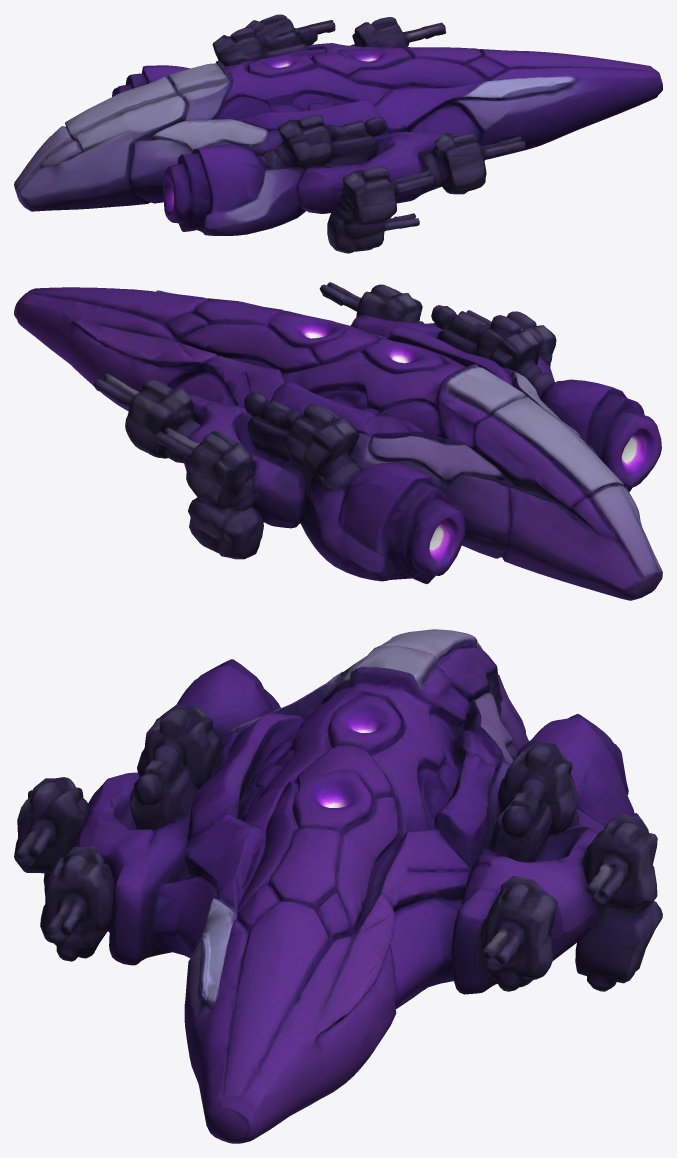
File: nova_rex.glb
The picture shows the model from 3 angles, top to bottom: view 1: azimuth 30°, elevation 25°; view 2: azimuth 150°, elevation 25°; view 3: azimuth 270°, elevation 25°; orthographic projection. The views are drawn at different scales.
Visible parts, largest first — view 1: tripo_node_1a9e81d9-5423-42f3-887e-1c3a72400e4f; view 2: tripo_node_1a9e81d9-5423-42f3-887e-1c3a72400e4f; view 3: tripo_node_1a9e81d9-5423-42f3-887e-1c3a72400e4f.
Boxes of the visible parts, left/top/right/bottom form: tripo_node_1a9e81d9-5423-42f3-887e-1c3a72400e4f: left=14, top=14, right=662, bottom=253; tripo_node_1a9e81d9-5423-42f3-887e-1c3a72400e4f: left=14, top=282, right=662, bottom=600; tripo_node_1a9e81d9-5423-42f3-887e-1c3a72400e4f: left=14, top=629, right=662, bottom=1143.
Size of the model in its own units: 2 by 0.4753 by 1.16.
1 material, 1 textured.
